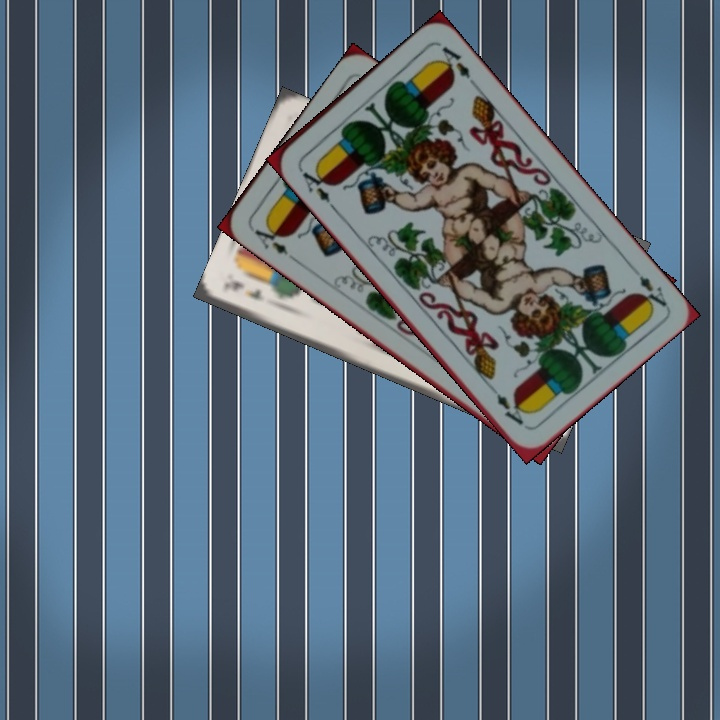EA: (626, 261, 671, 312), (250, 219, 298, 264), (294, 163, 338, 212)
EK: (226, 276, 267, 303)
